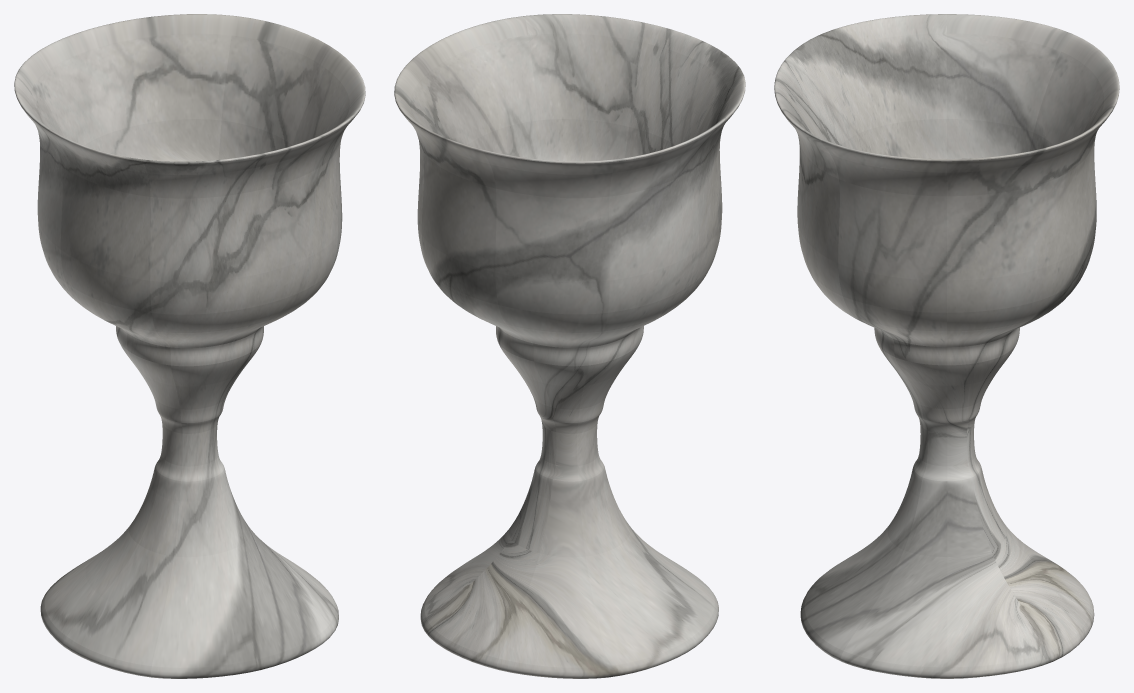
Rendered from goblet.obj.
3 renders of one model, left to right at view 1: azimuth 30°, elevation 25°; view 2: azimuth 150°, elevation 25°; view 3: azimuth 270°, elevation 25°, orthographic.
Parts seen in each view (by area): view 1: Chalice_Cube.023; view 2: Chalice_Cube.023; view 3: Chalice_Cube.023.
Boxes of the visible parts, x1,y1,x2,y2 form: Chalice_Cube.023: (14, 14, 365, 678); Chalice_Cube.023: (394, 14, 745, 678); Chalice_Cube.023: (774, 14, 1119, 678).
Size of the model in its own units: 0.4313 by 0.7428 by 0.4313.
